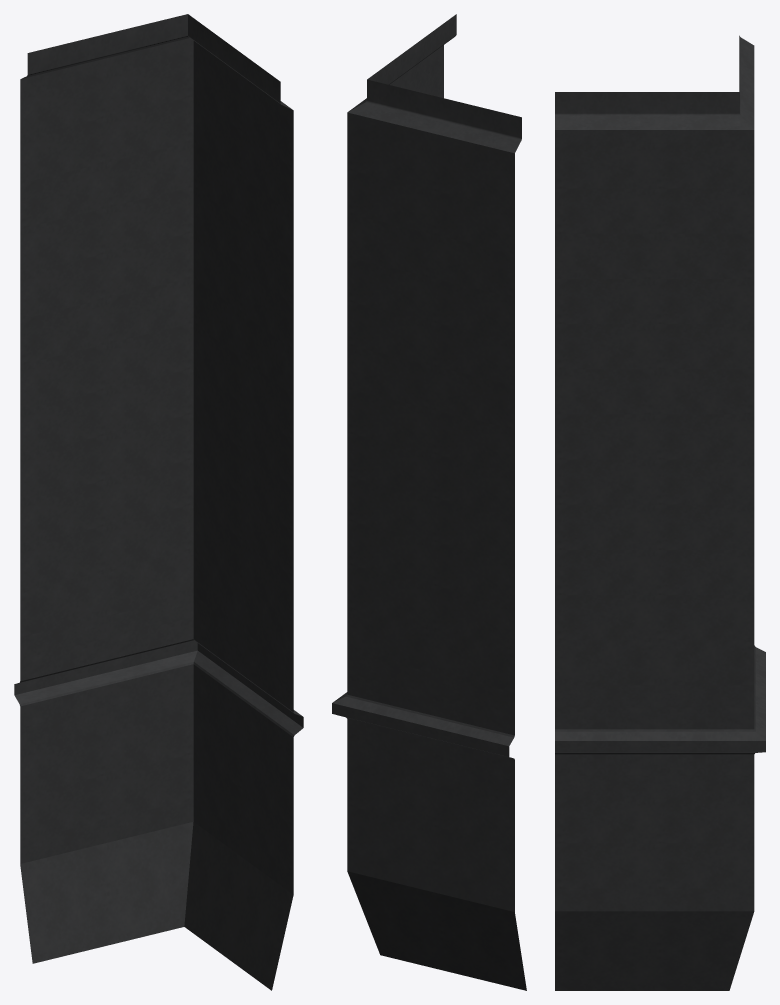
The model's file is M_Wall_Concave_Corner_4x20_v2.fbx.
3 views of the same model, side by side, from view 1: azimuth 30°, elevation 25°; view 2: azimuth 150°, elevation 25°; view 3: azimuth 270°, elevation 25° (orthographic). The views are drawn at different scales.
Visible parts, largest first — view 1: Wall_Corner_Concave_4x20_v2; view 2: Wall_Corner_Concave_4x20_v2; view 3: Wall_Corner_Concave_4x20_v2.
Part boxes in pixels (<box>): Wall_Corner_Concave_4x20_v2: <box>14,14,303,990</box>; Wall_Corner_Concave_4x20_v2: <box>332,14,526,990</box>; Wall_Corner_Concave_4x20_v2: <box>555,35,765,990</box>.
Bounding box in the file's own units: 423 × 2000 × 423.
